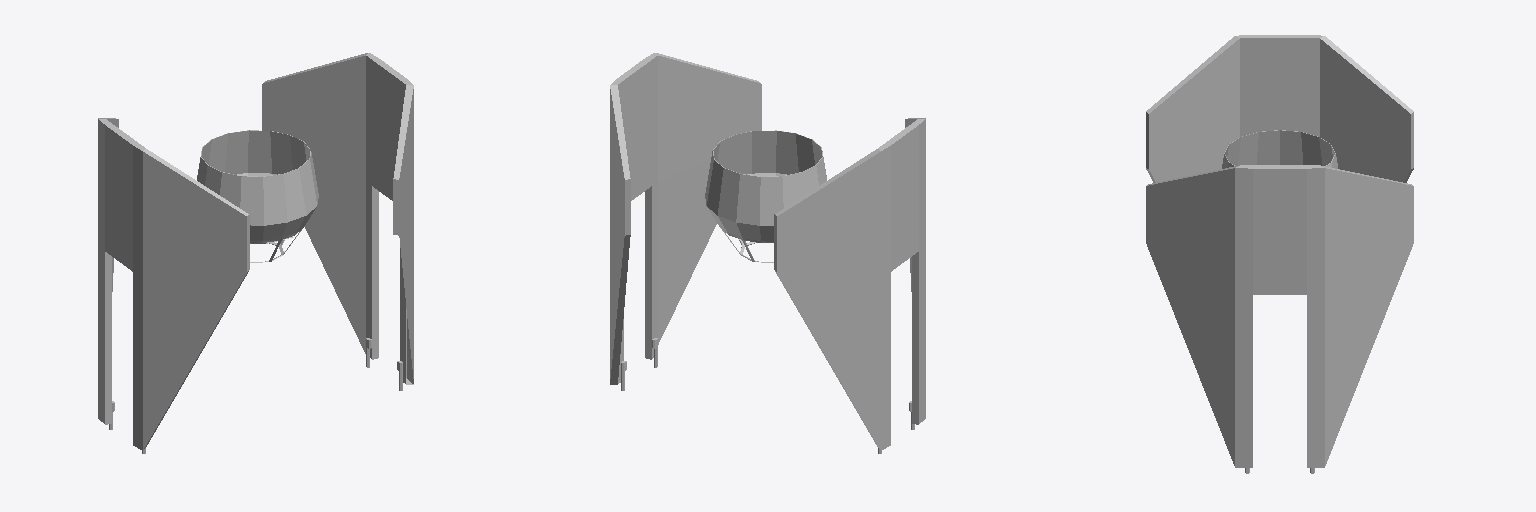
The model's file is cabin_1.obj.
3 renders of one model, left to right at view 1: azimuth 30°, elevation 25°; view 2: azimuth 150°, elevation 25°; view 3: azimuth 270°, elevation 25°, orthographic.
Visible parts, largest first — view 1: Sphere001; view 2: Sphere001; view 3: Sphere001.
Boxes of the visible parts, x1,y1,x2,y2 form: Sphere001: [98, 53, 413, 453]; Sphere001: [610, 53, 925, 453]; Sphere001: [1146, 35, 1413, 473].
Size of the model in its own units: 60.53 by 65.09 by 51.46.